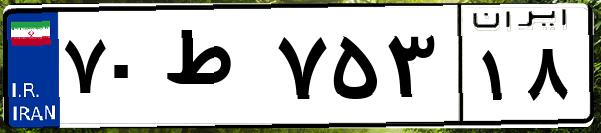0: (110, 28, 158, 98)
1: (475, 38, 525, 113)
3: (385, 28, 445, 110)
5: (330, 28, 385, 110)
7: (270, 28, 330, 110), (57, 26, 110, 100)
8: (525, 38, 570, 115)
ط: (158, 20, 270, 120)
